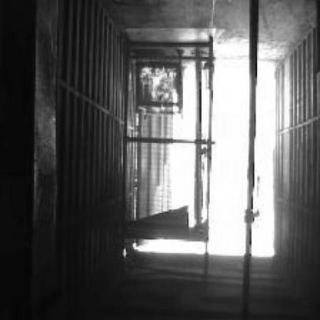Fire: (129, 62, 183, 118)
other: (184, 52, 280, 262)
